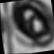correct: (6, 0, 54, 54)
